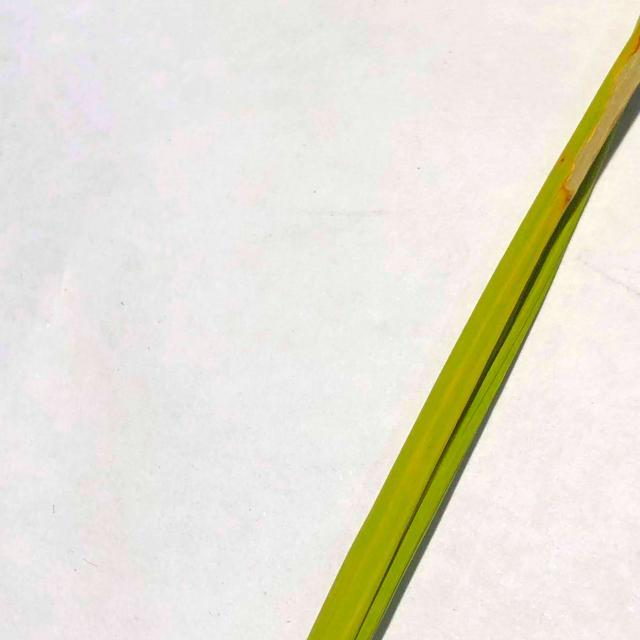brownspots: (559, 176, 579, 206)
